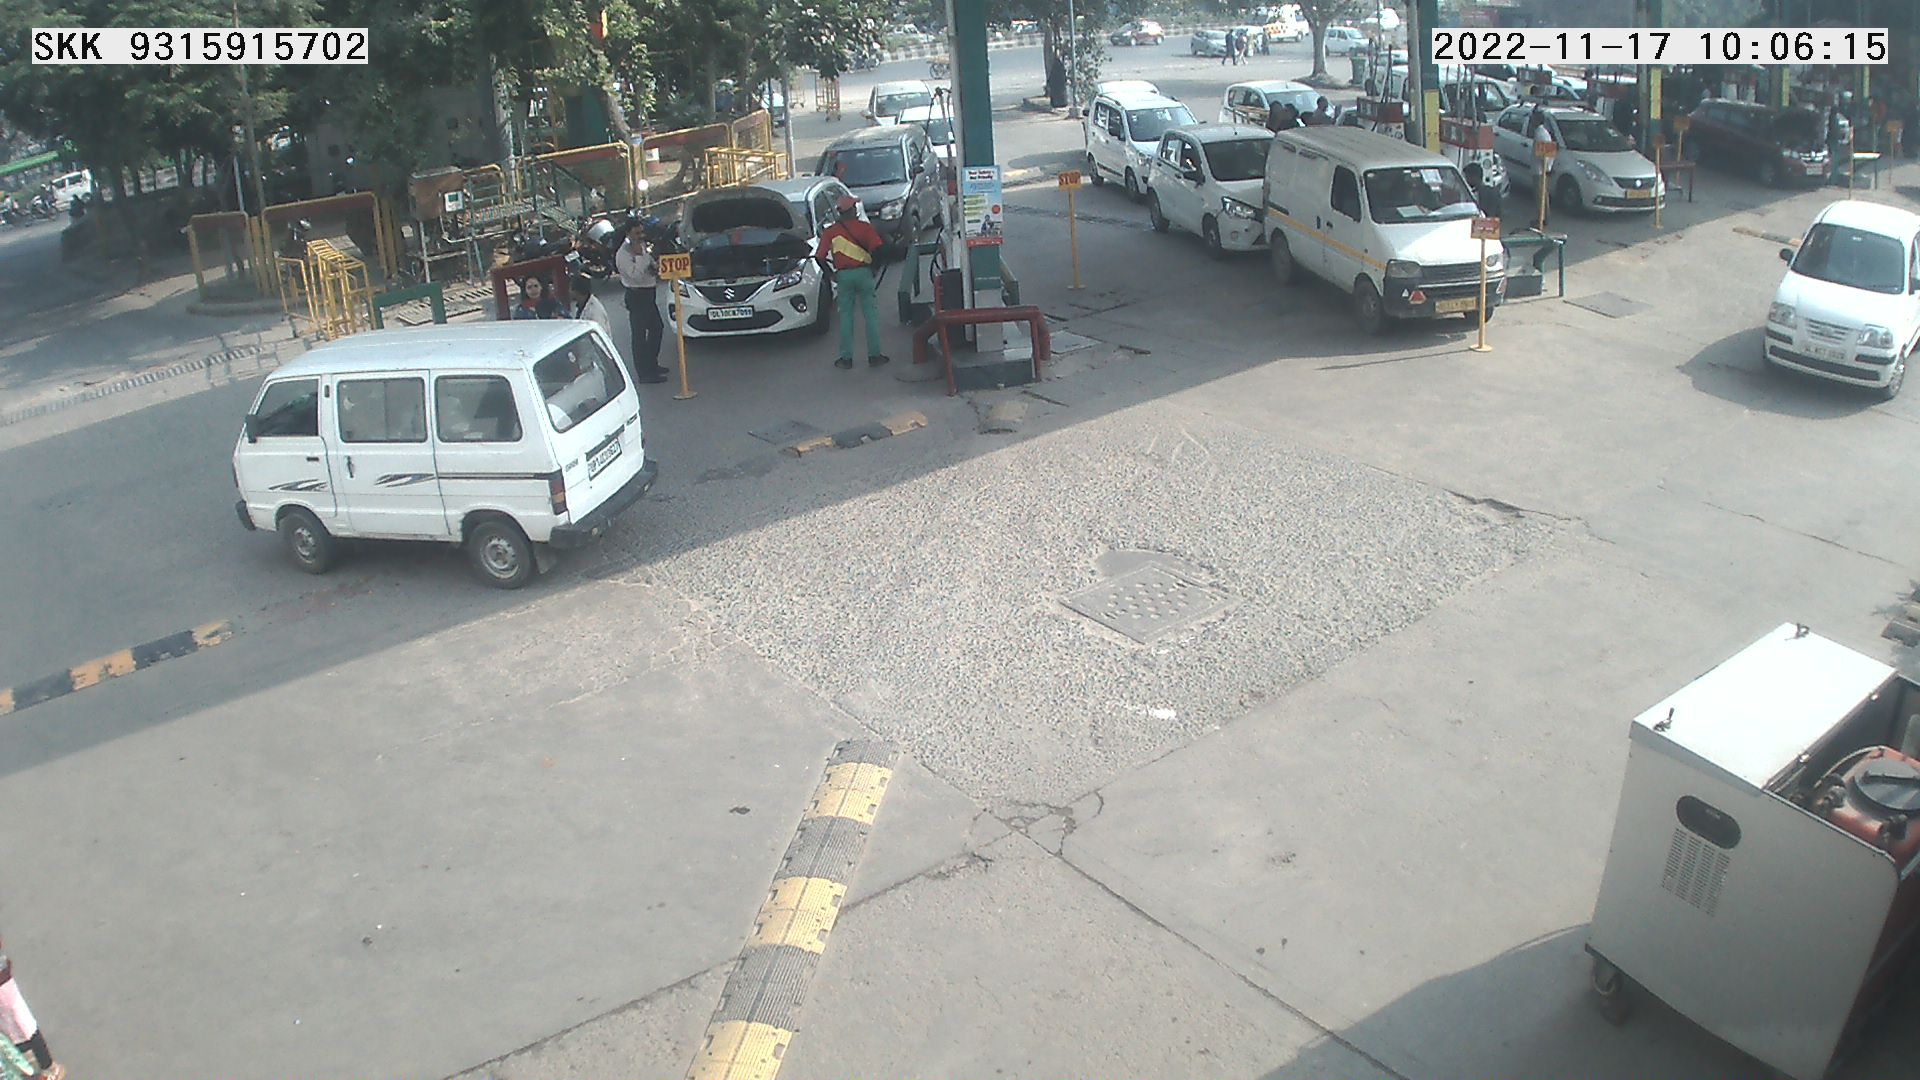Bike: (487, 194, 603, 320), (558, 171, 640, 291), (261, 191, 322, 307), (603, 164, 684, 241), (535, 186, 585, 260)
Car: (215, 293, 691, 615), (1254, 113, 1514, 342), (640, 146, 887, 365), (1749, 182, 1915, 425), (1466, 65, 1677, 231), (1644, 65, 1858, 200), (793, 100, 953, 276), (1138, 109, 1300, 272), (1065, 76, 1199, 210), (1418, 100, 1518, 214), (1207, 74, 1344, 154), (881, 95, 972, 204), (1313, 74, 1428, 154), (1772, 61, 1869, 156), (1545, 59, 1640, 133), (1433, 65, 1516, 146), (1834, 69, 1913, 154), (1076, 66, 1168, 133), (858, 71, 940, 140), (1344, 36, 1414, 102), (1292, 20, 1371, 66), (1096, 12, 1172, 55), (1168, 22, 1242, 65), (1224, 13, 1276, 71), (916, 67, 971, 113)
Others: (812, 185, 902, 380)
Others Other: (654, 247, 707, 409), (1457, 210, 1511, 363), (1051, 161, 1098, 306), (1642, 104, 1673, 258), (1531, 125, 1563, 245), (1672, 100, 1698, 233), (1883, 100, 1909, 208)
